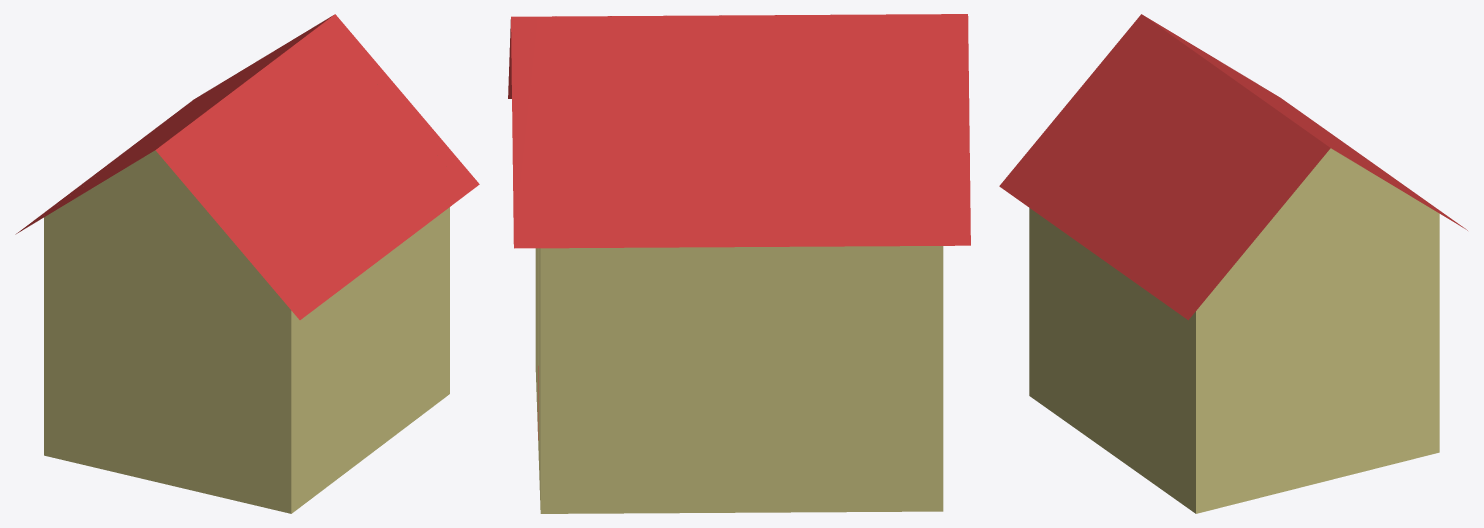
3 views of the same model, side by side, from view 1: azimuth 30°, elevation 25°; view 2: azimuth 150°, elevation 25°; view 3: azimuth 270°, elevation 25° (orthographic). The views are drawn at different scales.
Bounding box in the file's own units: 11.05 × 10.72 × 8.61.
